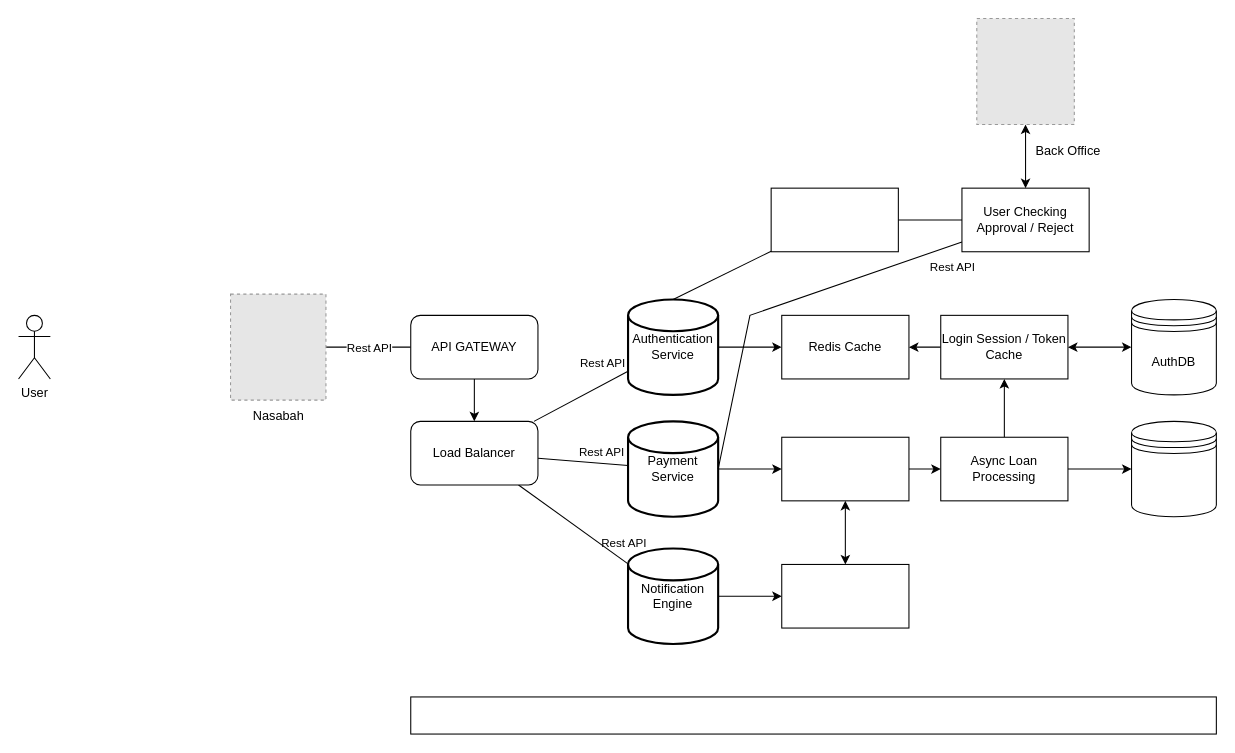
Image size: 1235x753. Some labels were removed from this diagram. Grey dashed boxes stand in for pictures. The shapes that lost their labels are listed below. From the top down, each one's centre as x and y in pixels, then its label:
the point at 834,219: SLIK / Dukcapil / DTTOT
the point at 845,468: Rabbit MQ
the point at 1173,468: PaymentDB
the point at 845,595: Notification email / DB
the point at 813,715: Logging / KAFKA
